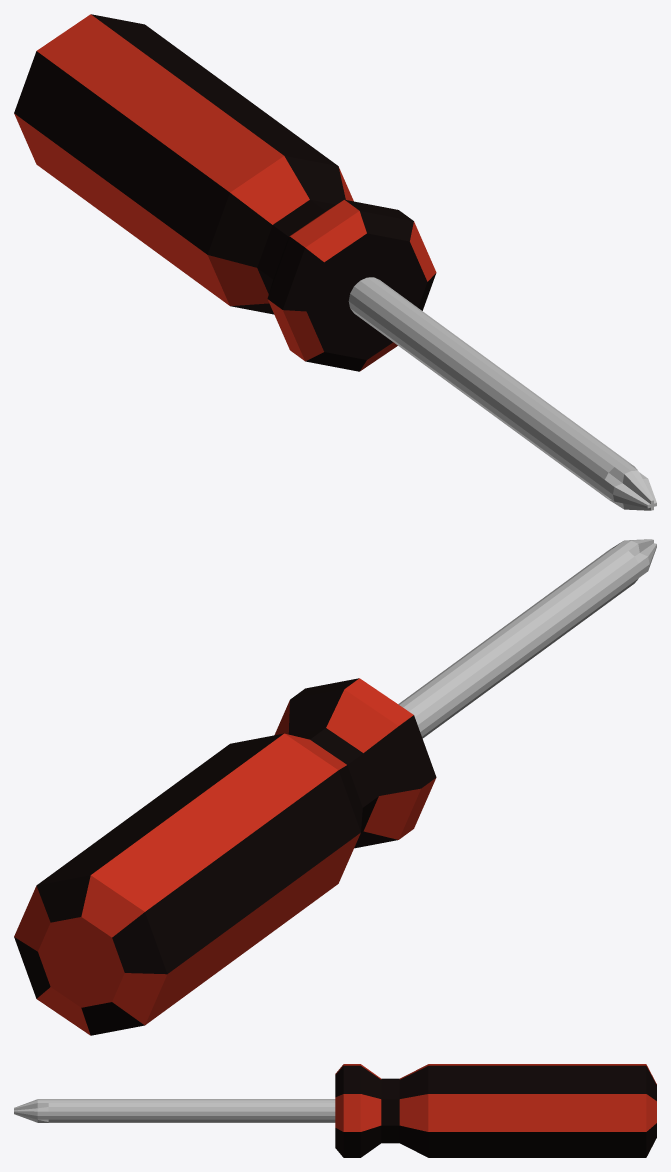
File: Screwdriver_Cross.fbx
3 views of the same model, one above another, from view 1: azimuth 30°, elevation 25°; view 2: azimuth 150°, elevation 25°; view 3: azimuth 270°, elevation 25° (orthographic). The views are drawn at different scales.
Parts seen in each view (by area): view 1: Screwdriver_Cross; view 2: Screwdriver_Cross; view 3: Screwdriver_Cross.
Boxes of the visible parts, <box> form: Screwdriver_Cross: <box>14,14,656,510</box>; Screwdriver_Cross: <box>14,539,656,1035</box>; Screwdriver_Cross: <box>14,1064,656,1157</box>.
Size of the model in its own units: 0.0844 by 0.0844 by 0.5426.
